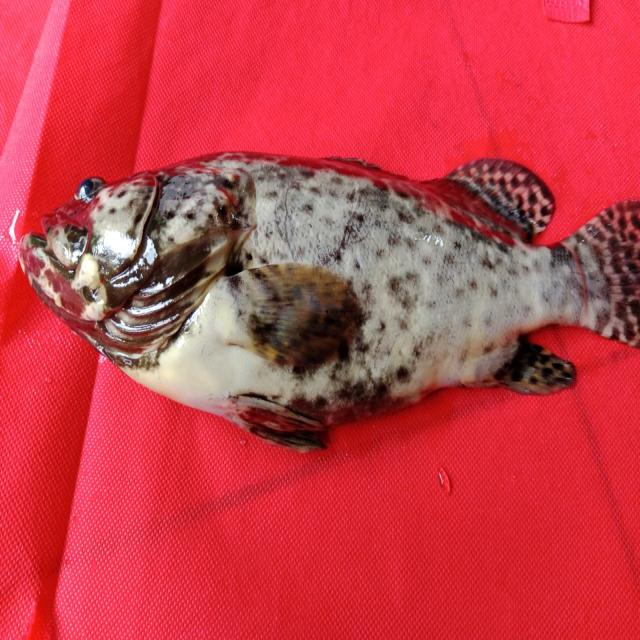ikan: (17, 139, 629, 460)
